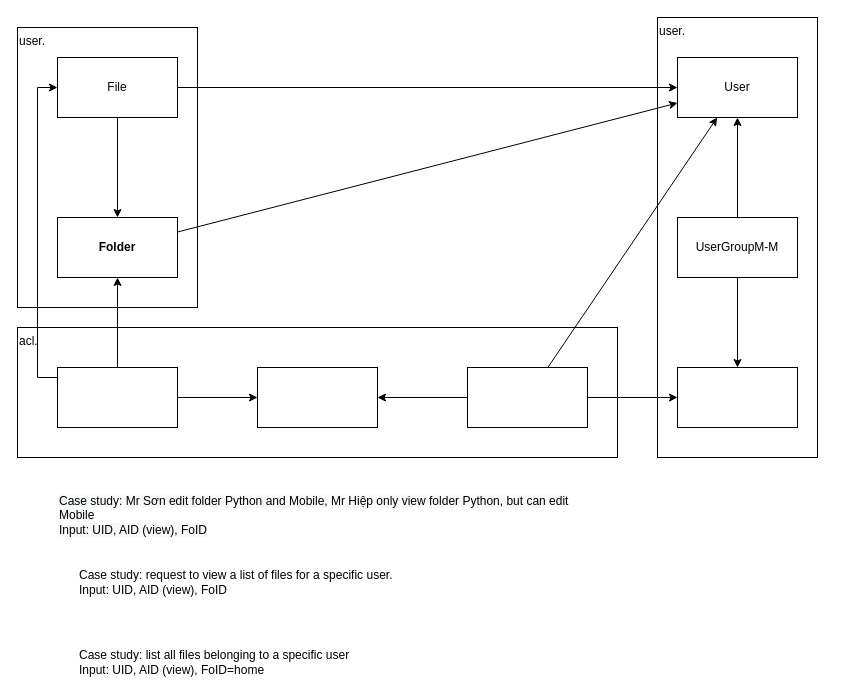
The diagram is 855 pixels wide and 695 high, and some of its shapes have lost their labels. The shapes that lost their labels are listed below. From the top down, each one's centre as x and y in pixels, then its label:
the point at 117,397: ACLs AGID, FGID
the point at 317,397: ActionGroup eg: ICT-AI-Pub, ICT-AI-dev
the point at 527,397: UserActionGroup M-M
the point at 737,397: UserGroup e.g. ICT-AI, ICT, ICT-DL
